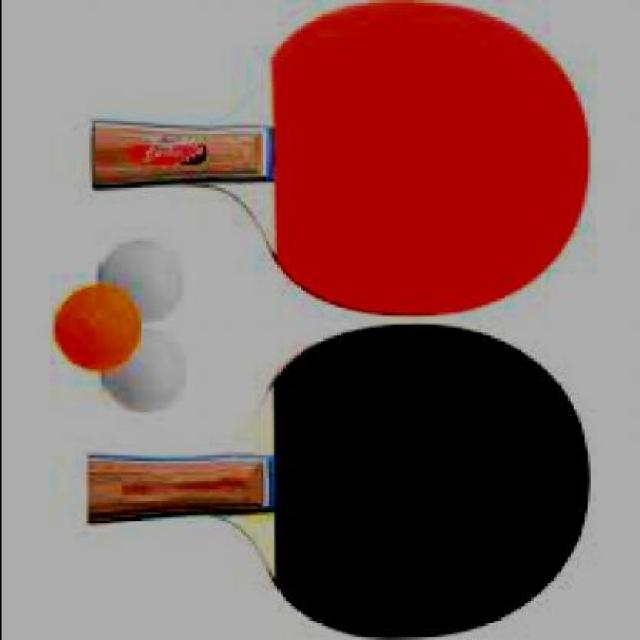table_tennis_racket: (211, 1, 592, 324), (226, 325, 594, 639)
